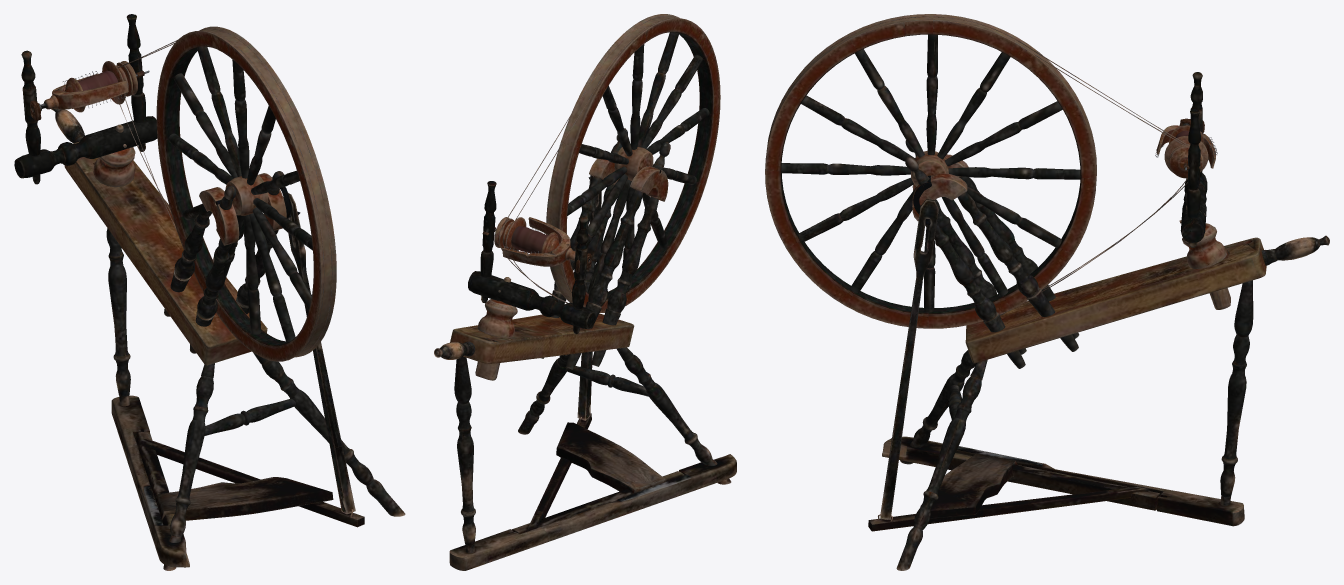
Rendered from spinning_wheel_01.glb.
The picture shows the model from 3 angles, left to right: view 1: azimuth 30°, elevation 25°; view 2: azimuth 150°, elevation 25°; view 3: azimuth 270°, elevation 25°; orthographic projection. The views are drawn at different scales.
Visible parts, largest first — view 1: spinning_wheel_01; view 2: spinning_wheel_01; view 3: spinning_wheel_01.
Boxes of the visible parts, <box> form: spinning_wheel_01: <box>14,14,405,570</box>; spinning_wheel_01: <box>434,14,736,570</box>; spinning_wheel_01: <box>765,14,1329,570</box>.
Size of the model in its own units: 0.4894 by 0.9662 by 1.02.
1 material, 1 textured.
